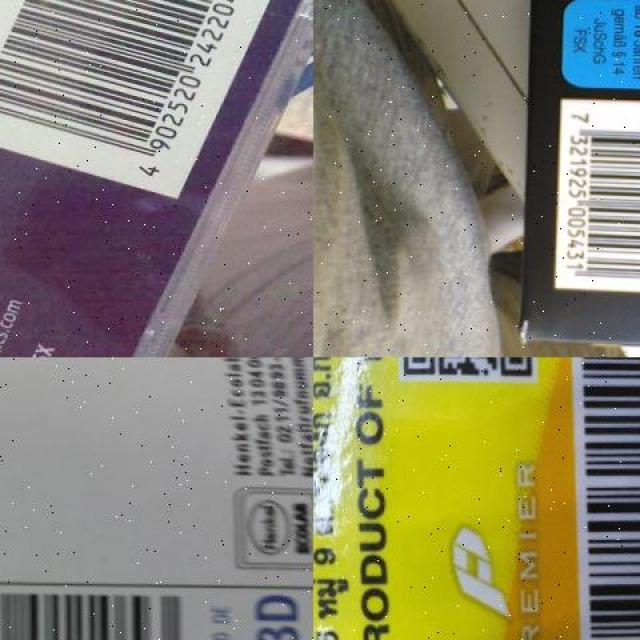Barcode: (0, 0, 286, 197), (570, 357, 640, 639), (546, 96, 640, 290), (0, 581, 205, 639)
